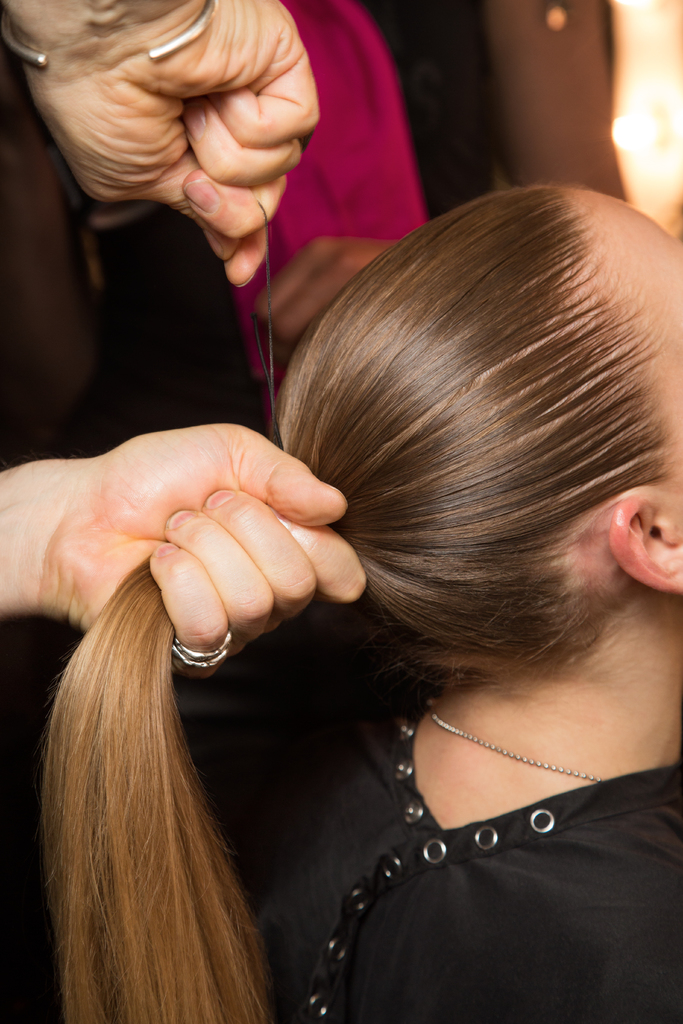Person: (36, 186, 683, 1024), (0, 0, 371, 678)
